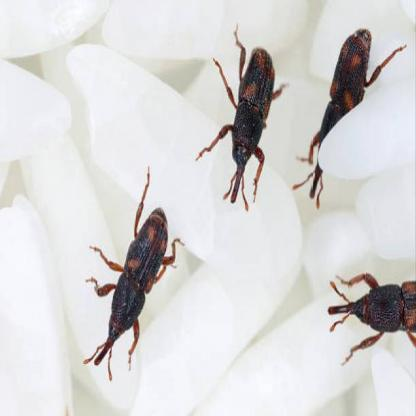rice-bug: (91, 192, 173, 376), (307, 28, 386, 211), (215, 33, 276, 207), (328, 271, 416, 362)
